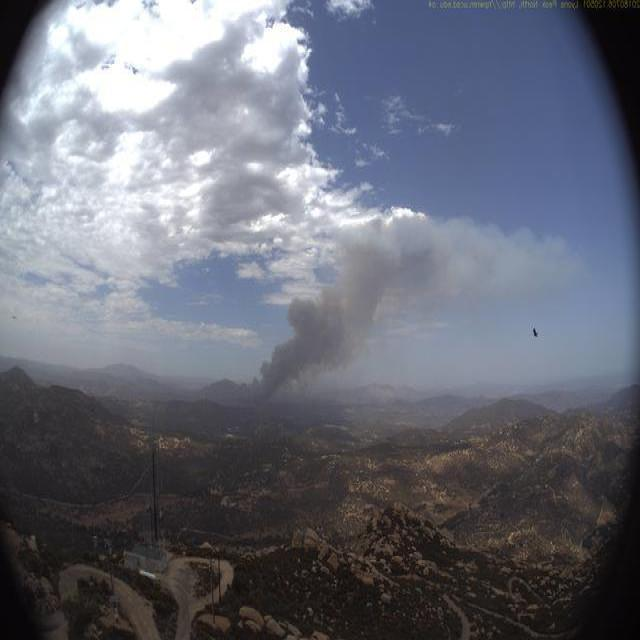Smoke: (227, 207, 581, 424)
